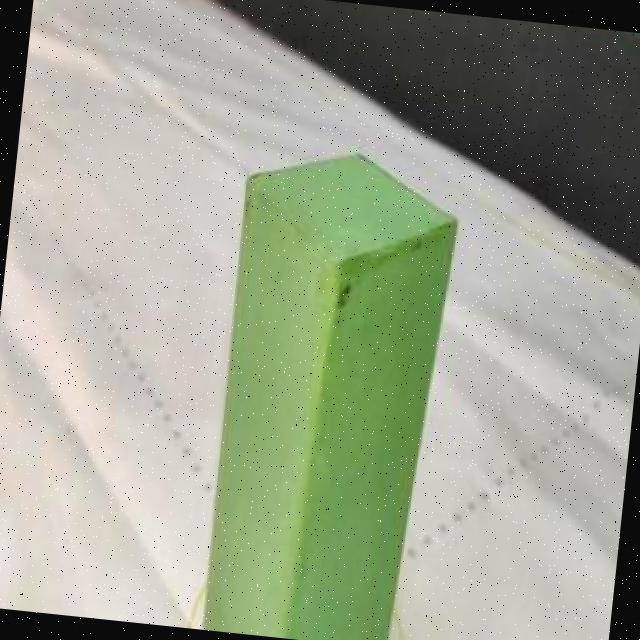greenbox: (196, 135, 461, 640)
